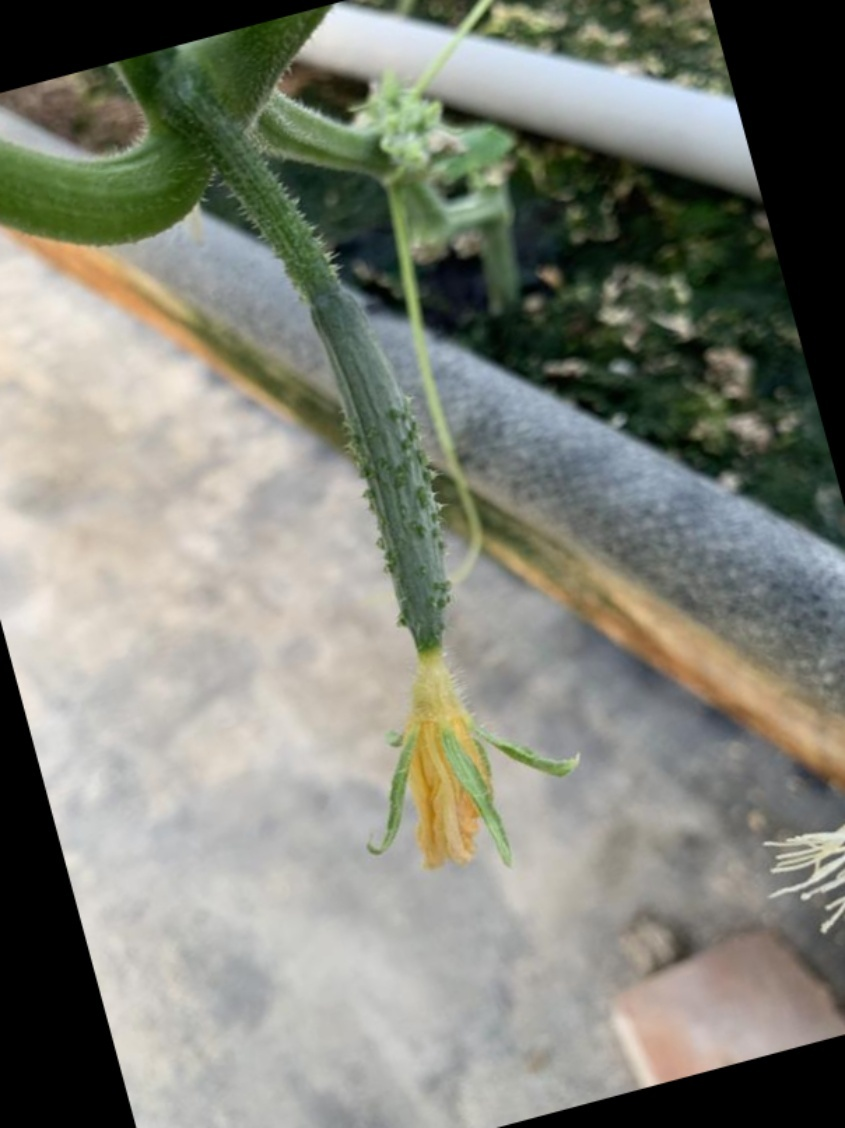bear: (269, 268, 570, 881)
